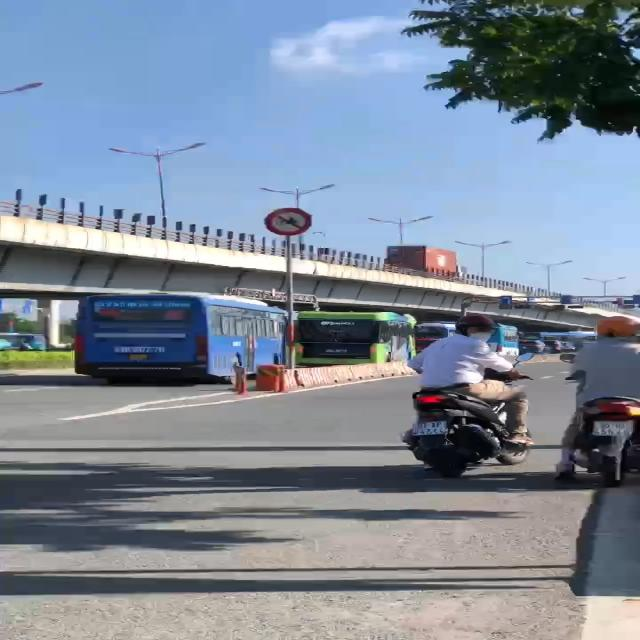Bien bao cam xe may: (261, 204, 319, 241)
